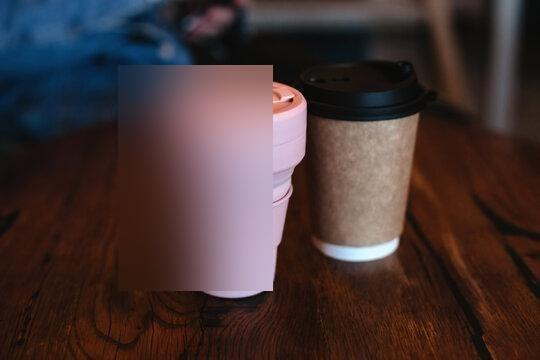cup-disposable: (298, 56, 429, 264)
